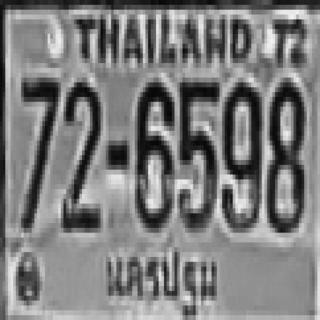N02: (59, 78, 99, 228)
N05: (177, 78, 217, 228)
N06: (135, 78, 172, 228)
N07: (18, 73, 58, 228)
N08: (264, 78, 302, 228)
N09: (219, 78, 259, 228)
P28: (101, 241, 223, 319)
